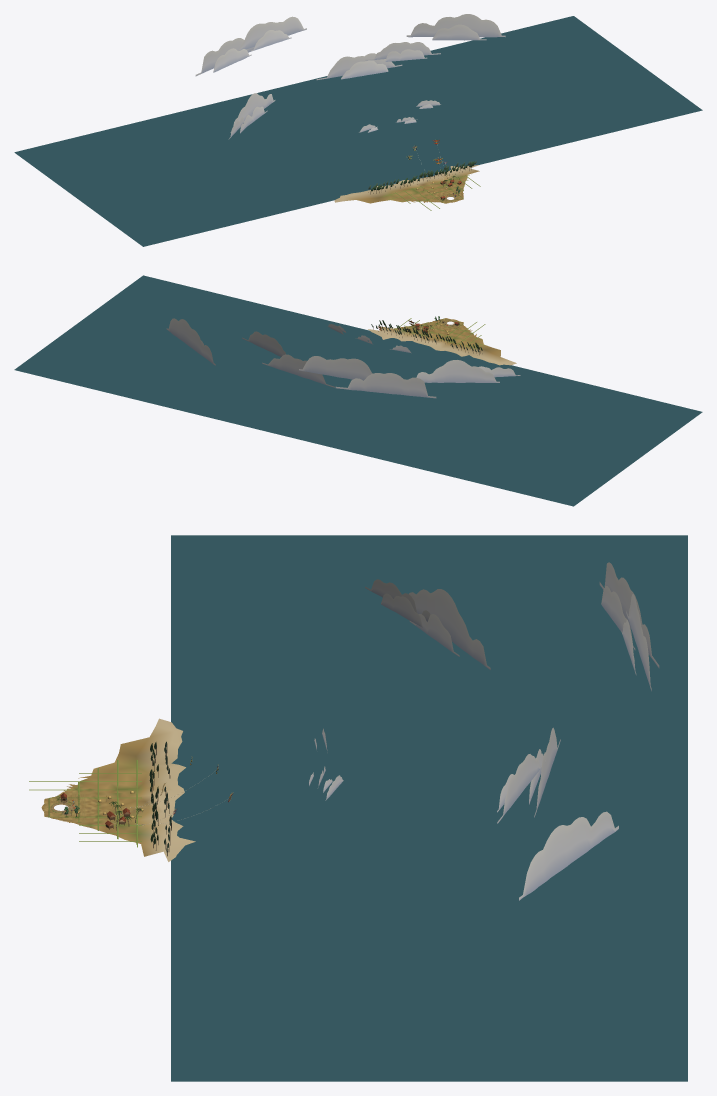
Rendered from arena_kelantan.glb.
3 renders of one model, top to bottom at view 1: azimuth 30°, elevation 25°; view 2: azimuth 150°, elevation 25°; view 3: azimuth 270°, elevation 25°, orthographic. The views are drawn at different scales.
Parts seen in each view (by area): view 1: EnvFar_MatWater_sea, EnvFar_MatSky_backdrop, EnvFar_MatGround_field, EnvFar_MatLeaf_canopy; view 2: EnvFar_MatWater_sea, EnvFar_MatSky_backdrop, EnvFar_MatGround_field, EnvFar_MatLeaf_canopy; view 3: EnvFar_MatWater_sea, EnvFar_MatSky_backdrop, EnvFar_MatGround_field, EnvBattle_MatGround_field.
Part boxes in pixels (bbox=[...]): EnvFar_MatWater_sea: bbox=[14, 16, 702, 246]; EnvFar_MatSky_backdrop: bbox=[195, 14, 505, 188]; EnvFar_MatGround_field: bbox=[334, 165, 480, 210]; EnvFar_MatLeaf_canopy: bbox=[368, 160, 476, 191]; EnvFar_MatWater_sea: bbox=[14, 275, 702, 506]; EnvFar_MatSky_backdrop: bbox=[166, 318, 520, 398]; EnvFar_MatGround_field: bbox=[368, 318, 516, 365]; EnvFar_MatLeaf_canopy: bbox=[371, 320, 482, 352]; EnvFar_MatWater_sea: bbox=[171, 535, 687, 1081]; EnvFar_MatSky_backdrop: bbox=[104, 562, 659, 900]; EnvFar_MatGround_field: bbox=[29, 718, 195, 861]; EnvBattle_MatGround_field: bbox=[41, 792, 99, 822].
Bounding box in the file's own units: 800 × 112 × 408.
